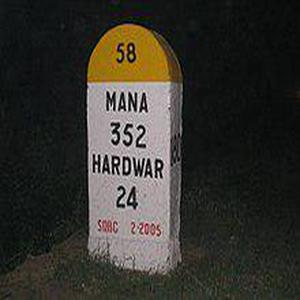kmstone: (80, 20, 184, 274)
